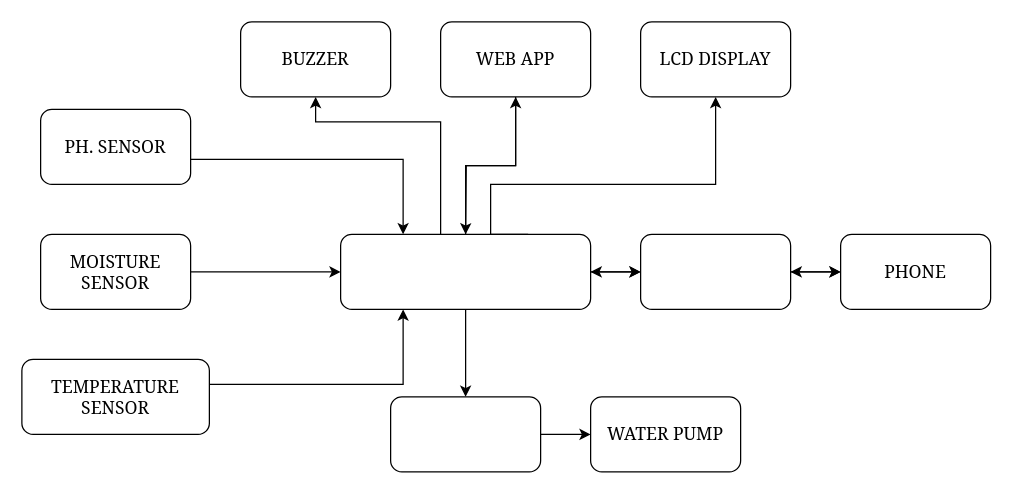
This 1013x494 diagram has some shape labels left out. Here are the shapes that lost their labels. From the top down, the centre of each, then its label:
At point (465, 271): "MICROCOMPUTER".
At point (715, 271): "GSM MODULE".
At point (465, 434): "RELAY".
